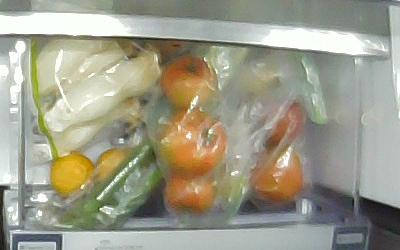tangerine: (49, 151, 95, 198)
tangerine_vinyl: (95, 149, 129, 183)
tomato_vinyl: (156, 107, 227, 175), (158, 54, 218, 109), (248, 148, 302, 201), (259, 101, 305, 146), (163, 177, 216, 215)
